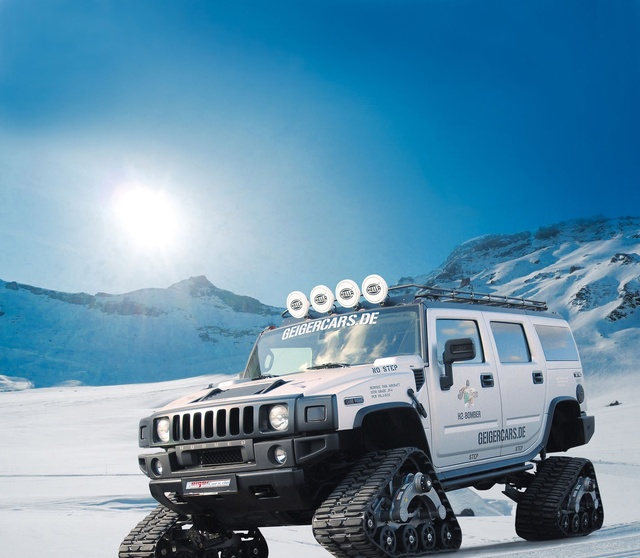other: (143, 276, 613, 558)
